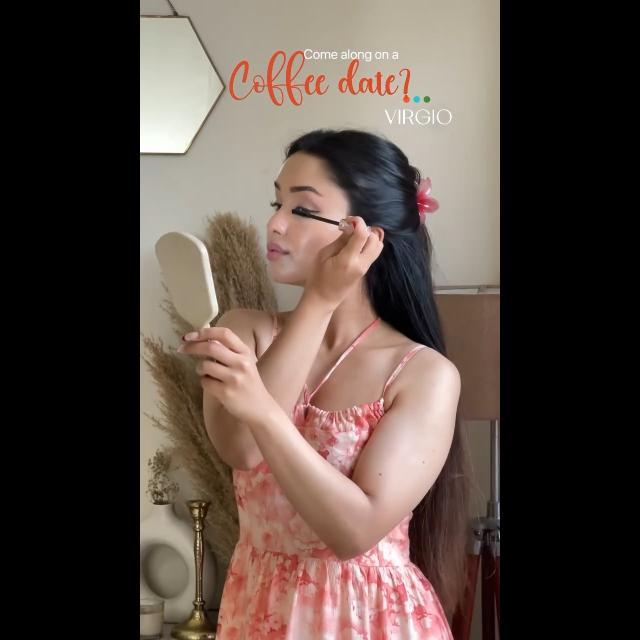dress: (232, 319, 450, 639)
